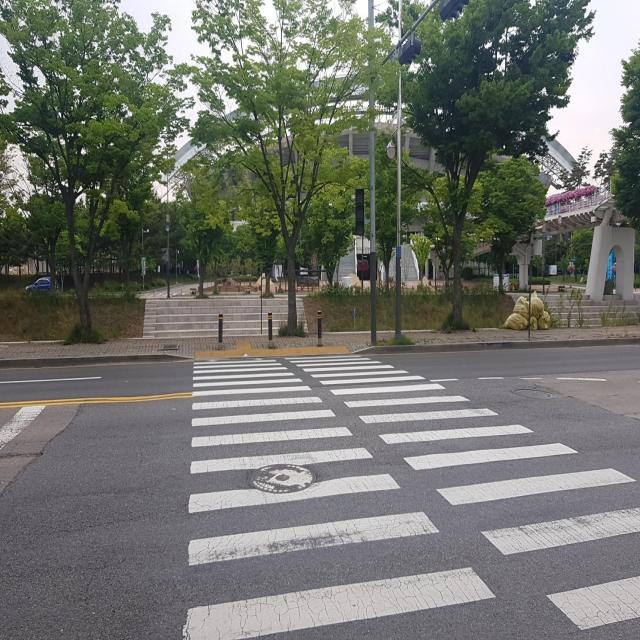횡단보도: (182, 355, 640, 640)
